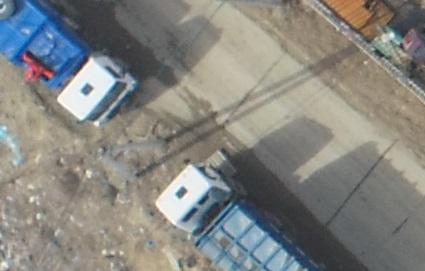opora: (94, 130, 177, 183)
